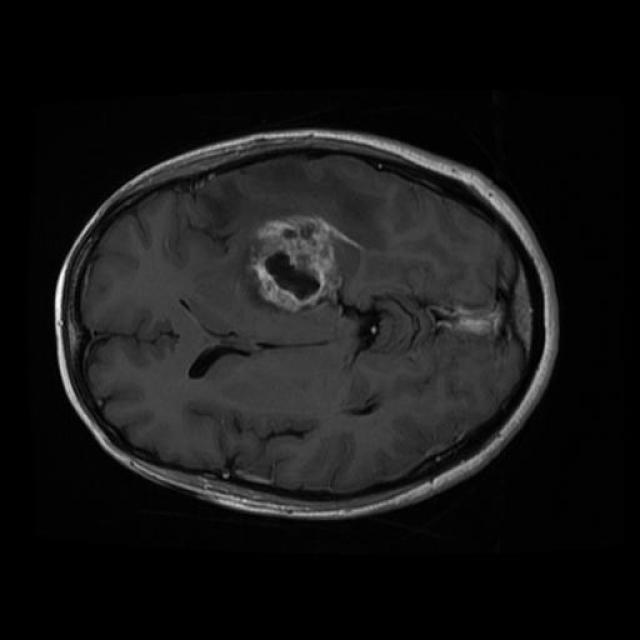Glioma: (249, 216, 361, 312)
